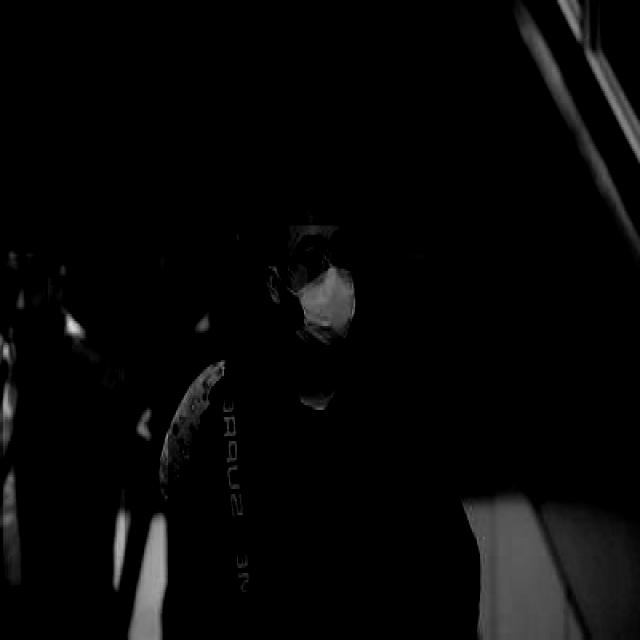face_mask: (283, 223, 360, 355)
face_nomask: (2, 256, 48, 343)
glasses: (277, 238, 360, 280)
head_nohelmet: (256, 182, 342, 228), (3, 218, 58, 276)
person: (166, 172, 448, 638), (1, 199, 124, 638)
